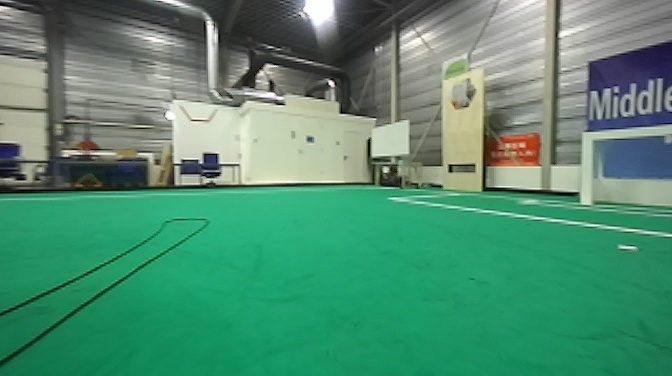goalpost: (575, 123, 599, 207)
